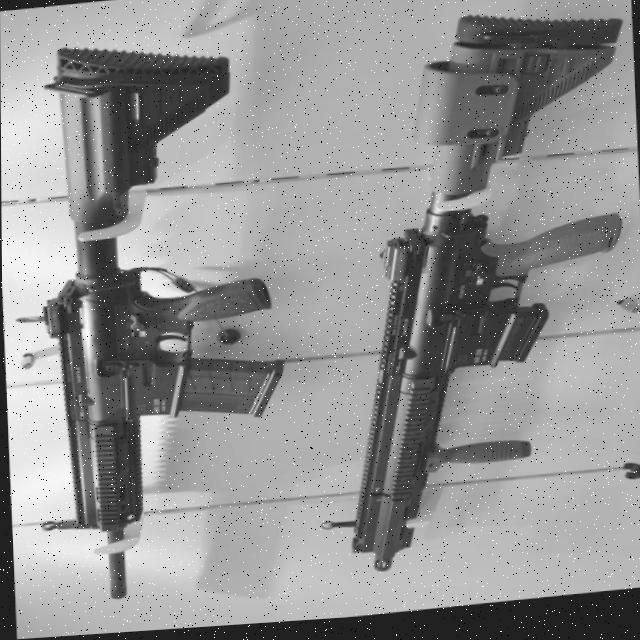firearm: (298, 6, 640, 581), (3, 28, 291, 608)
